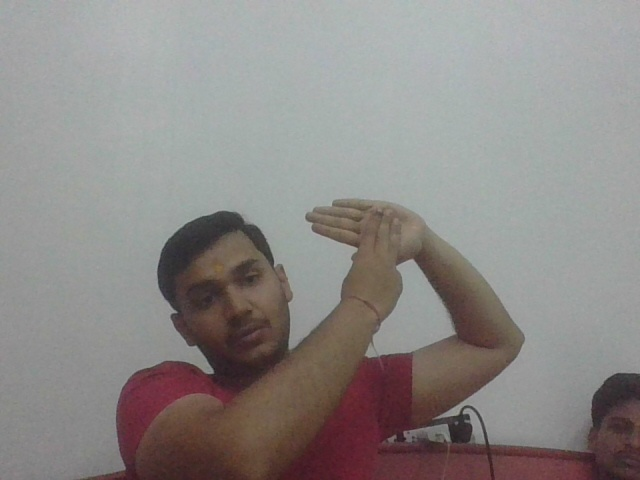M: (302, 196, 423, 291)
